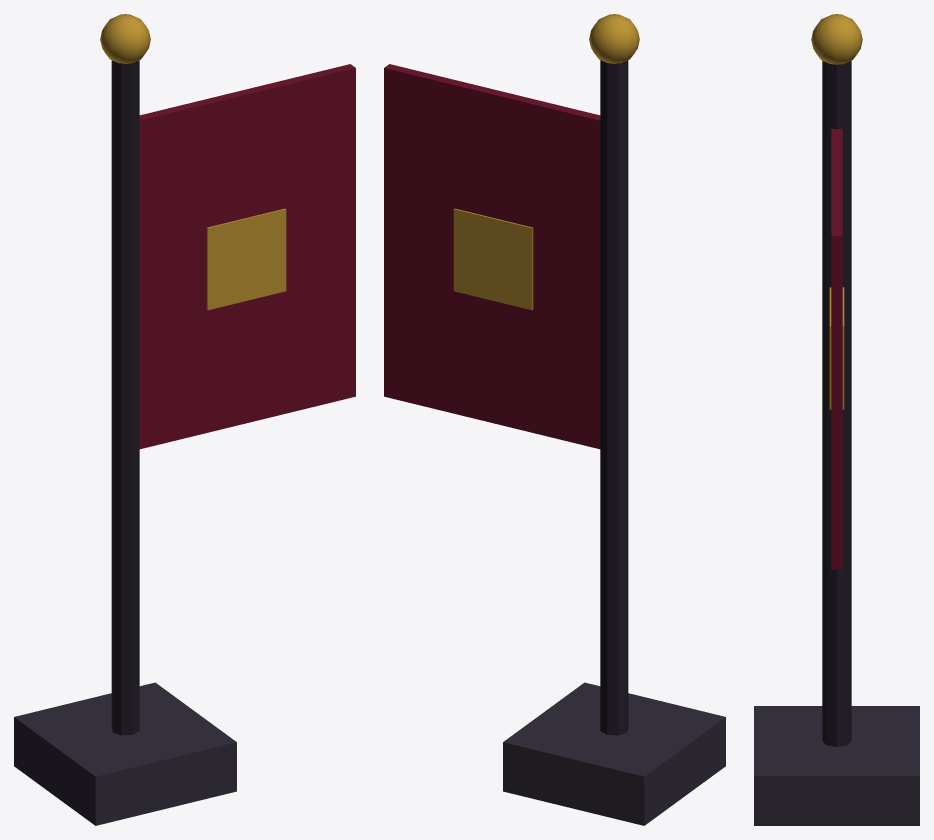
Rendered from deco_banner_lite.glb.
3 renders of one model, left to right at view 1: azimuth 30°, elevation 25°; view 2: azimuth 150°, elevation 25°; view 3: azimuth 270°, elevation 25°, orthographic.
Parts seen in each view (by area): view 1: Cube; view 2: Cube; view 3: Cube.
Part boxes in pixels (x1,y1,x2,y2): Cube: [14, 14, 355, 825]; Cube: [384, 14, 725, 825]; Cube: [754, 14, 919, 825].
Bounding box in the file's own units: 1.9 × 4.64 × 0.9.
